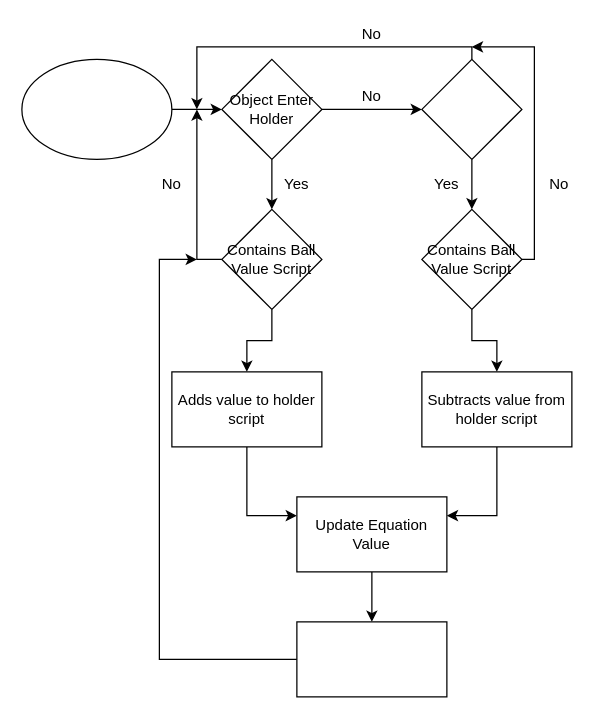
This 606x719 diagram has some shape labels left out. Each missing label, with the centre of its shape:
"Change material to match holder value" goes at point 371,659.
"Object Leave Holder" goes at point 471,108.
"START" goes at point 96,108.
